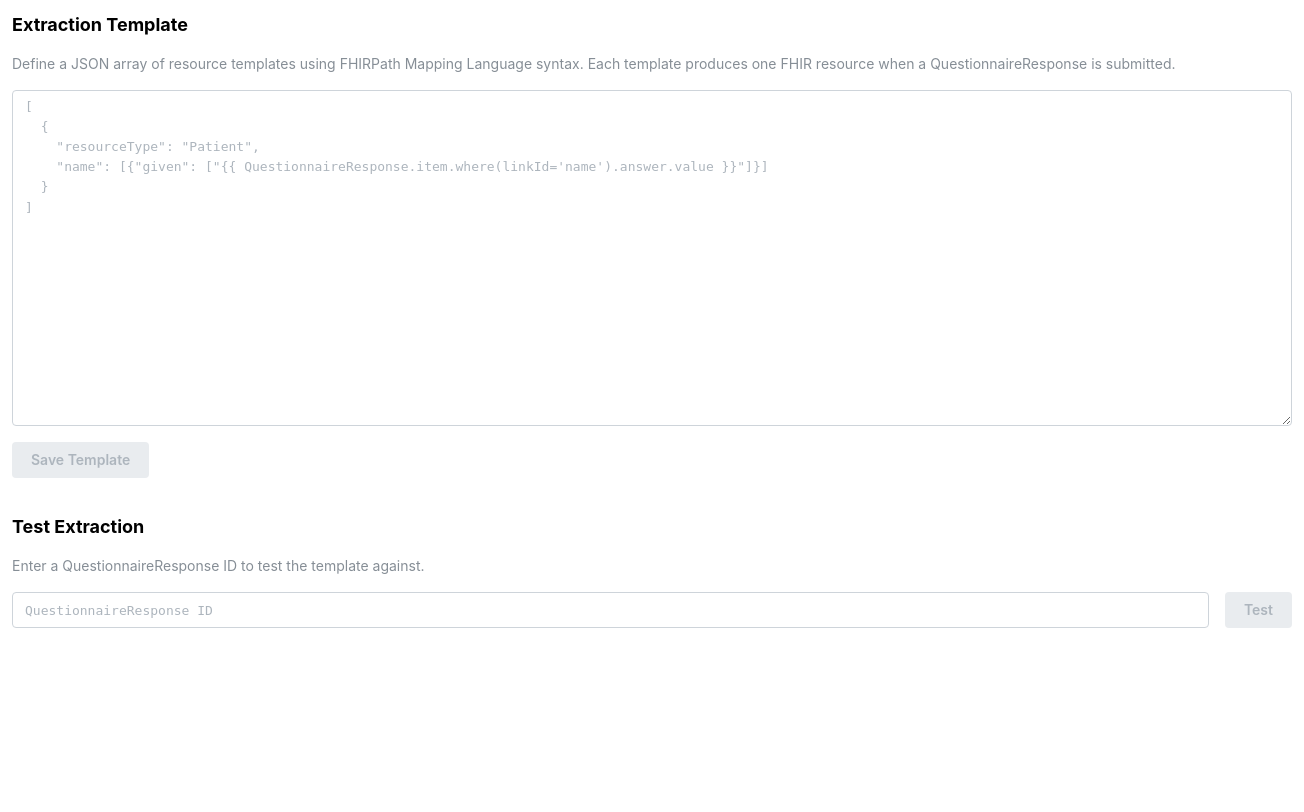
ExtractionTab › shows Invalid JSON error when saving invalid JSON
This screenshot has width=1304, height=812.
Replace the text in the text box with "not valid json": x=652, y=258 12,90 -> 1292,426
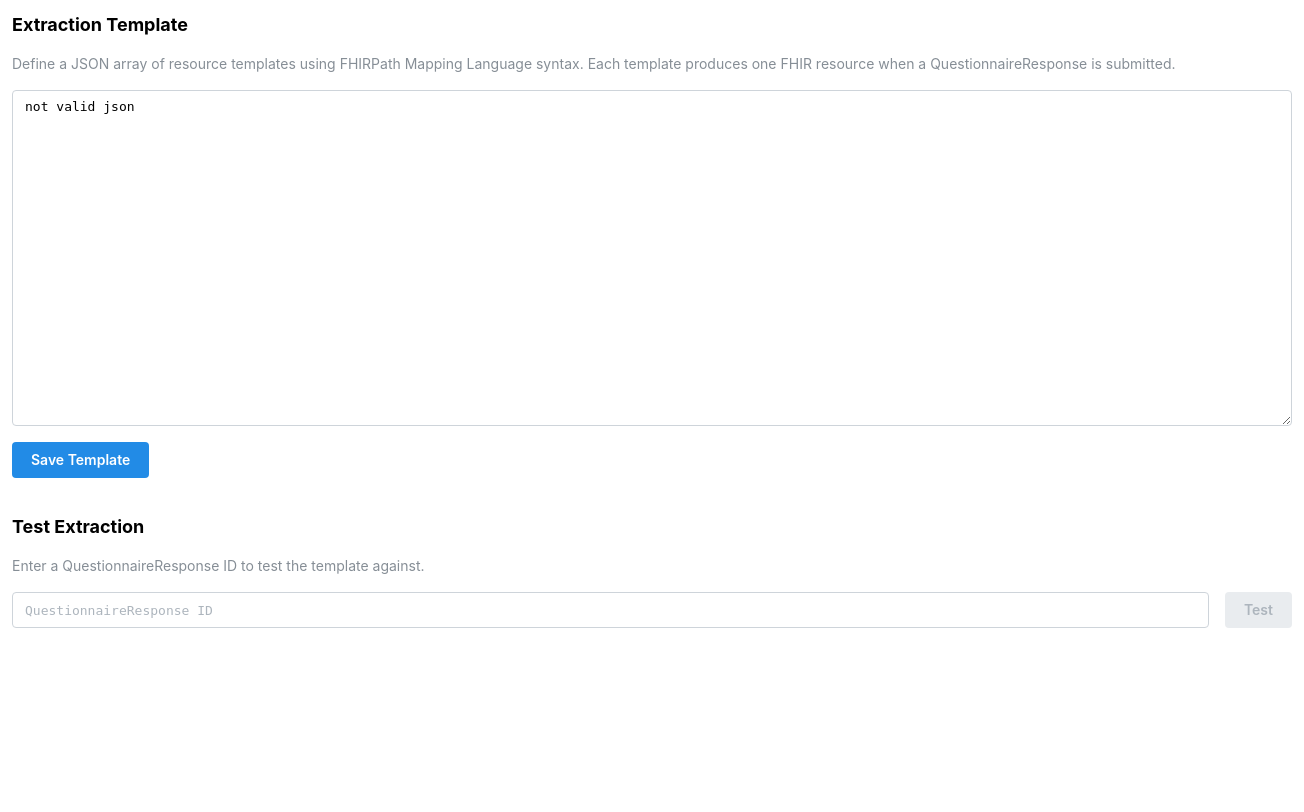
Click the button "Save Template": x=81, y=460 12,442 -> 149,478
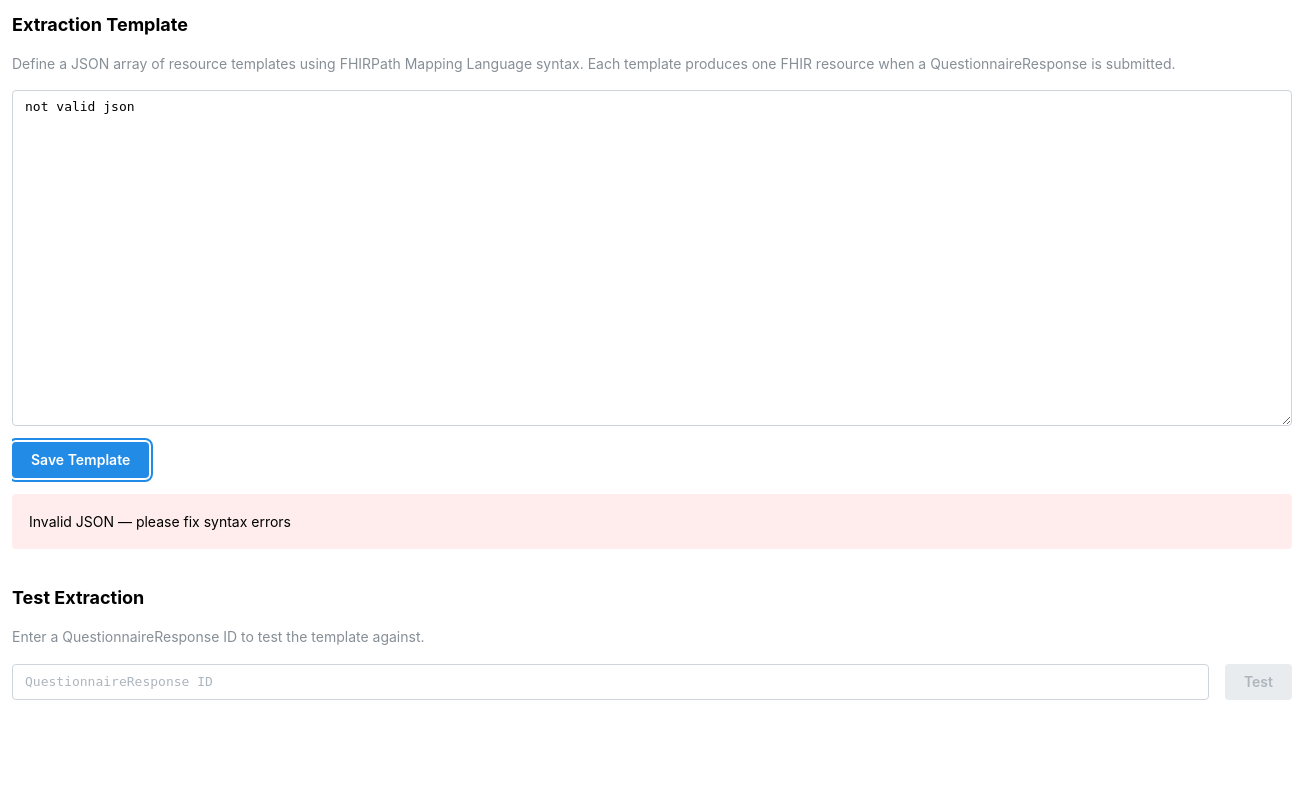
Expected: the text "Invalid JSON — please fix syntax errors" is shown, 29,513 -> 291,530
